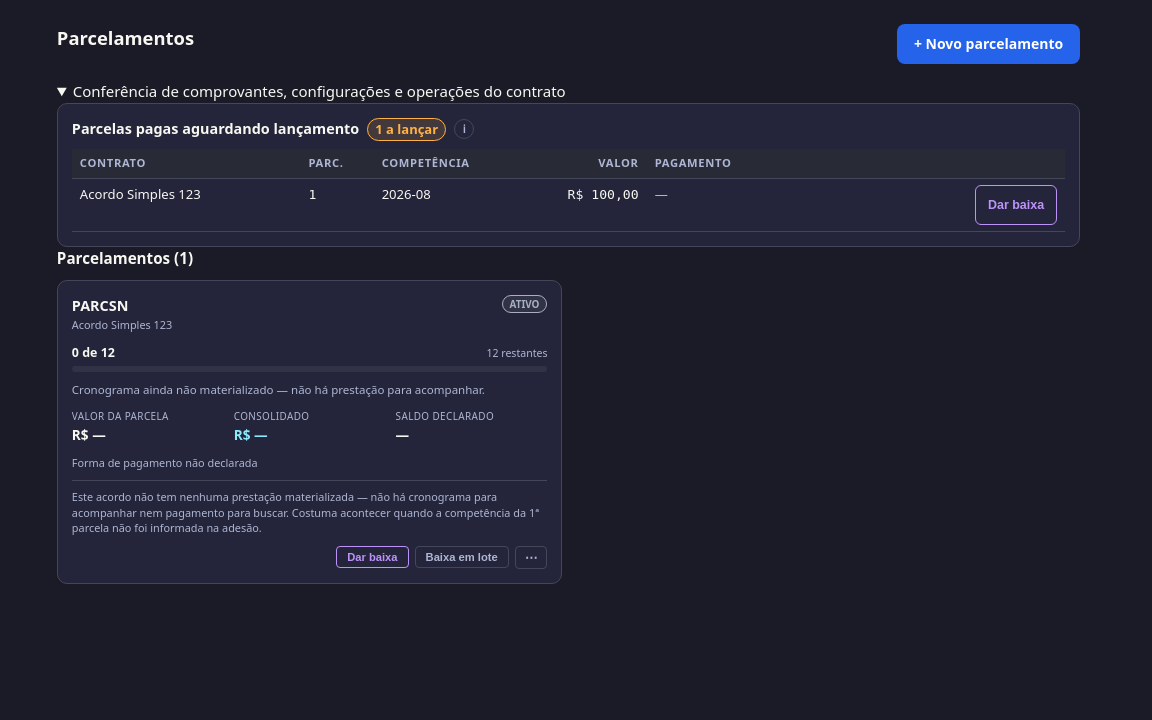
Test: baixa com guia mantém confirmação visível e atualiza cards, filas e conferência
The image size is (1152, 720).
Expected: the text "Acordo Simples 123" is shown, [72,178,300,231]
Click the button "Dar baixa" in the row of "2026-08".
click(1016, 205)  # box [975,185,1057,225]
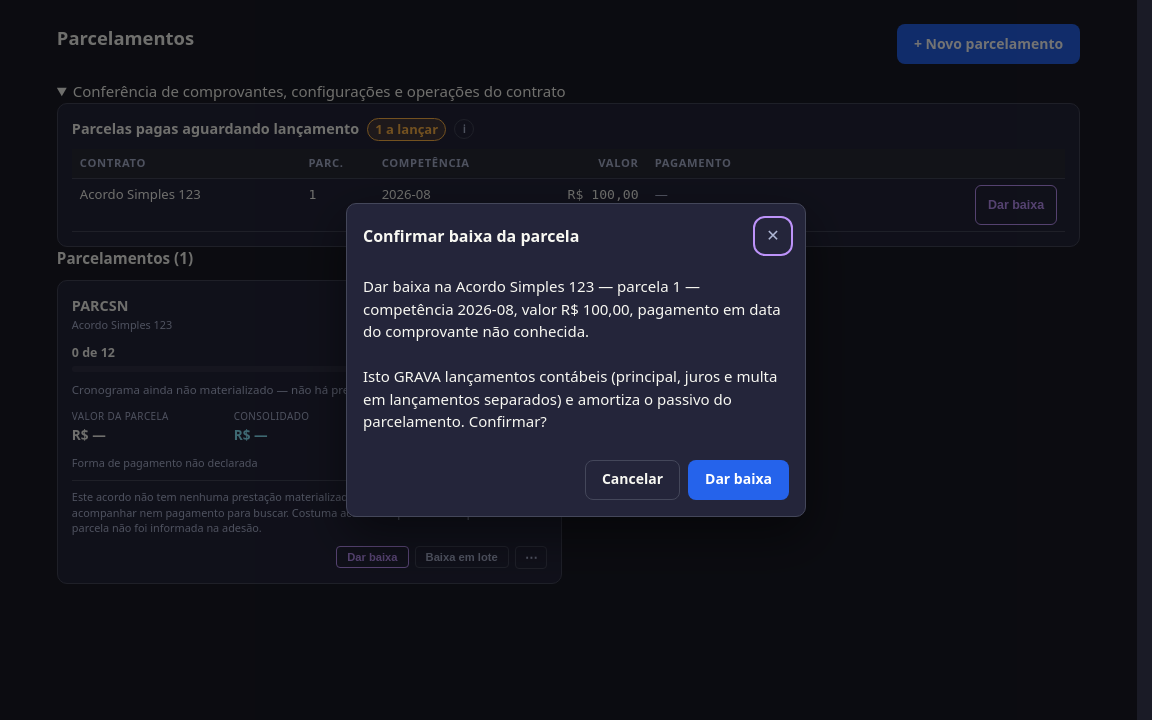
Expected: the dialog "Confirmar baixa da parcela" shows "Acordo Simples 123", [363,276,785,431]
Click the button "Dar baixa".
click(738, 480)  # box [688,460,789,500]
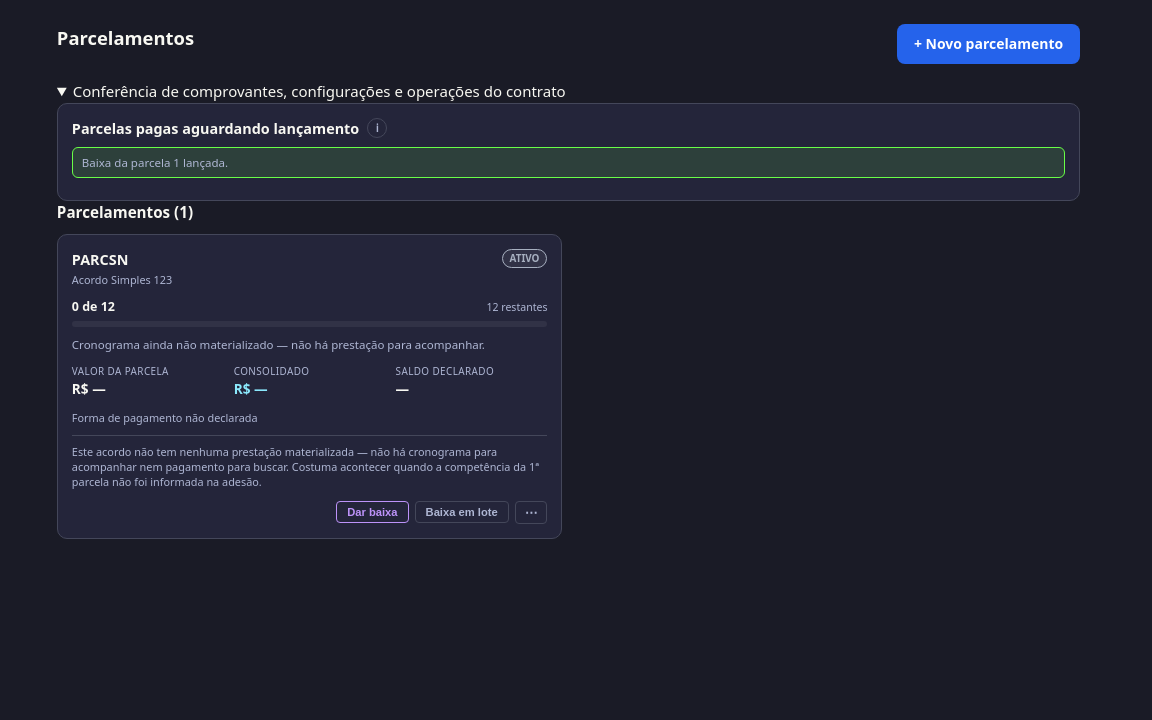
Expected: the text "Baixa da parcela 1 lançada." is shown, [72,147,1065,178]
